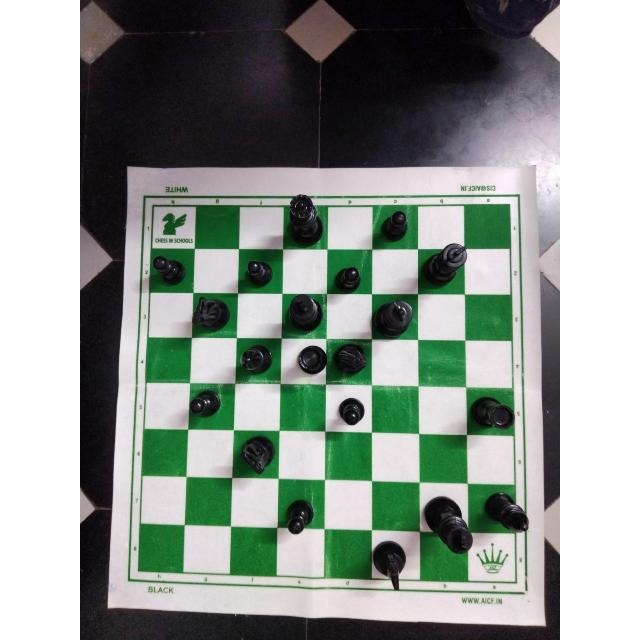black-bishop: (482, 488, 532, 536), (239, 340, 275, 379)
black-king: (420, 492, 475, 556), (420, 241, 472, 291), (285, 289, 326, 335), (373, 297, 417, 339)
black-knight: (369, 533, 410, 591), (237, 433, 279, 481), (188, 293, 234, 335), (331, 339, 373, 382)
black-pawn: (282, 496, 317, 536), (150, 253, 190, 287), (187, 386, 226, 420), (243, 255, 279, 291), (377, 208, 410, 244), (331, 261, 363, 295), (337, 396, 369, 428)
black-queen: (286, 191, 328, 247)
black-rook: (468, 391, 518, 432), (294, 343, 327, 377)
